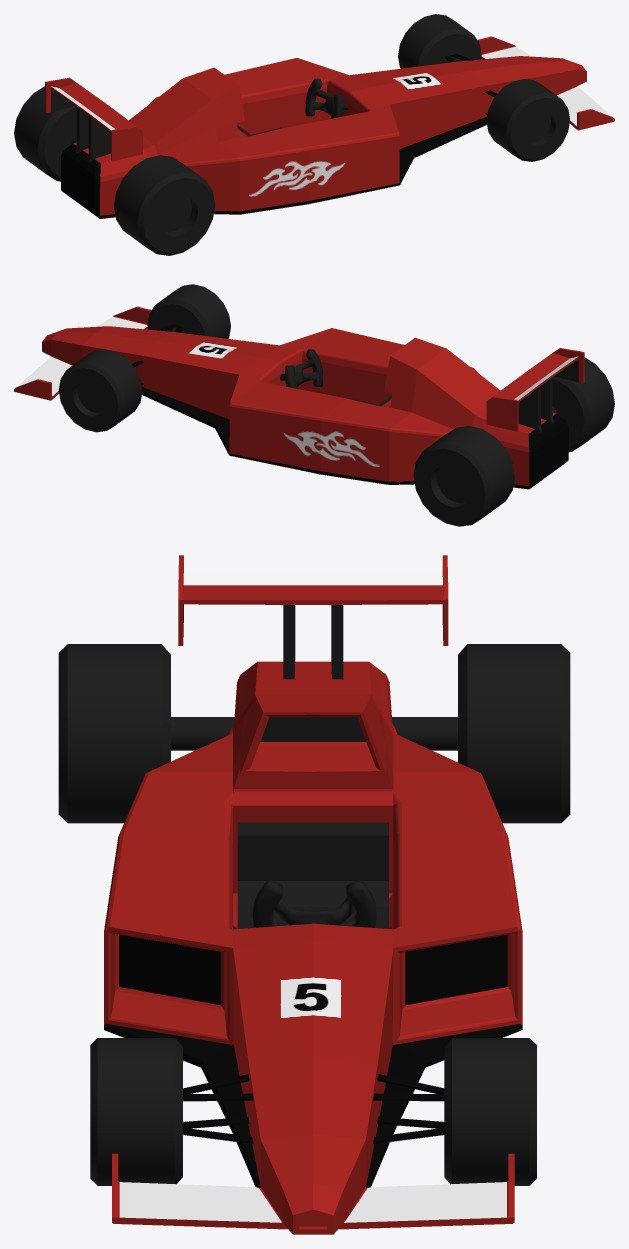
File: Car 1.FBX
The picture shows the model from 3 angles, top to bottom: view 1: azimuth 30°, elevation 25°; view 2: azimuth 150°, elevation 25°; view 3: azimuth 270°, elevation 25°; orthographic projection. The views are drawn at different scales.
Parts seen in each view (by area): view 1: car 1; view 2: car 1; view 3: car 1.
Boxes of the visible parts, bbox=[...] form: car 1: bbox=[14, 14, 614, 255]; car 1: bbox=[14, 284, 614, 526]; car 1: bbox=[58, 555, 570, 1234].
Bounding box in the file's own units: 24.39 × 5.23 × 10.68.
1 material, 1 textured.
